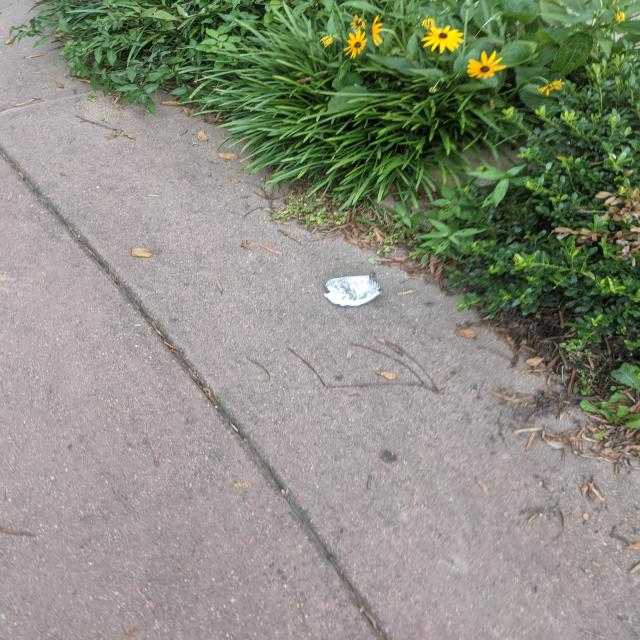litter: (322, 271, 385, 313)
